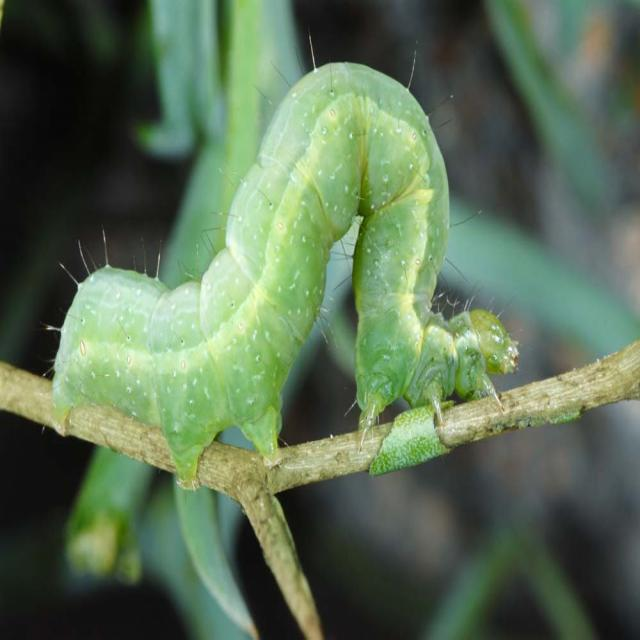looper: (45, 44, 523, 478)
